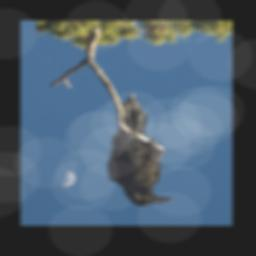Crow: (107, 90, 174, 206)
